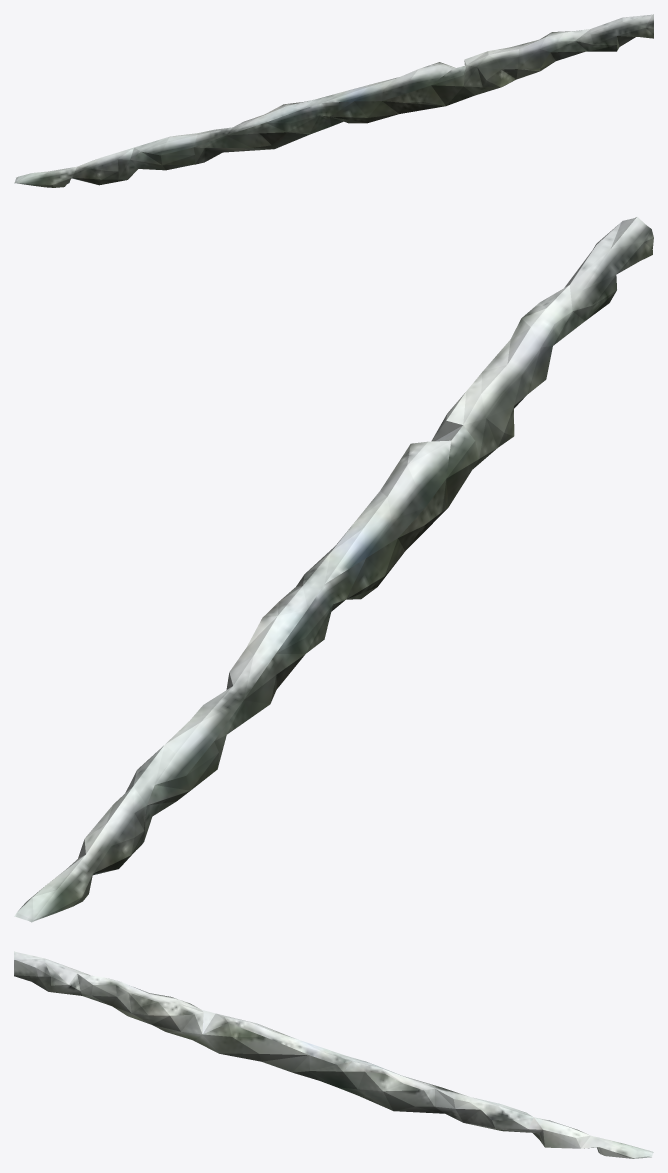
3 views of the same model, one above another, from view 1: azimuth 90°, elevation 25°; view 2: azimuth 150°, elevation 25°; view 3: azimuth 270°, elevation 25° (orthographic). The views are drawn at different scales.
Size of the model in its own units: 0.2628 by 0.8244 by 2.58.
1 material, 1 textured.
